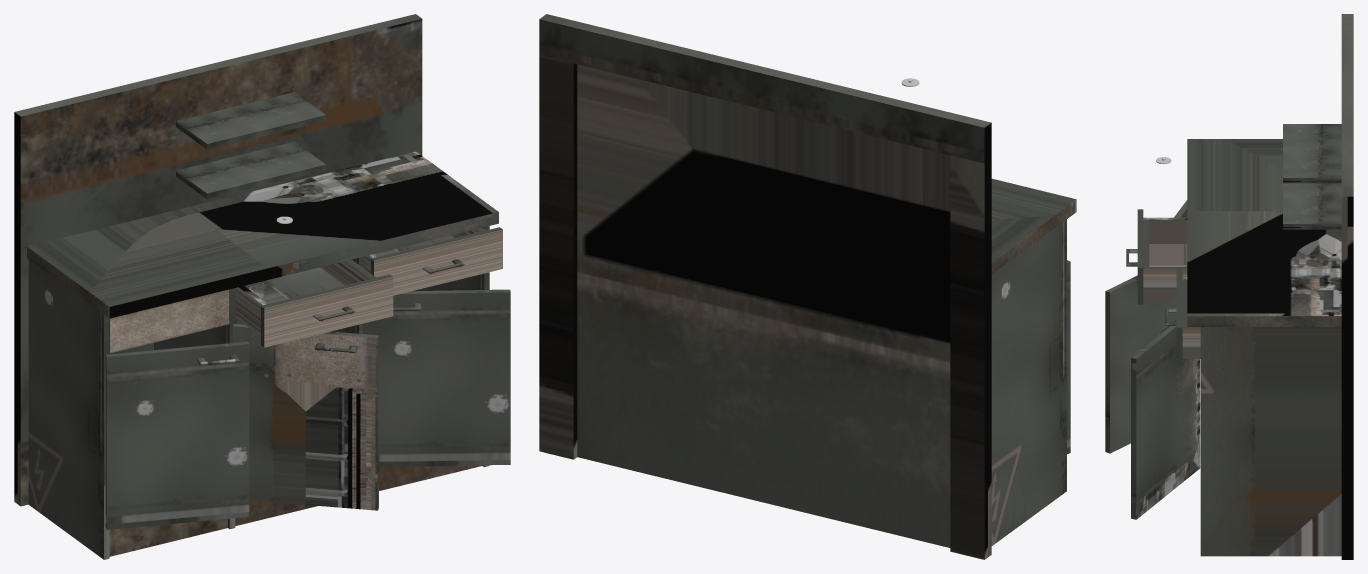
File: table 2.fbx
3 renders of one model, left to right at view 1: azimuth 30°, elevation 25°; view 2: azimuth 150°, elevation 25°; view 3: azimuth 270°, elevation 25°, orthographic. The views are drawn at different scales.
Visible parts, largest first — view 1: SzafkaNarzedziowa, SzafkaNarzedziowa.001, przodL, przodL.002, przodL1, bokL, szuflada1.001, szuflada1, przodZaslepka.002, przodZaslepka.001, przodZaslepka, bokL.001 (+1 smaller); view 2: SzafkaNarzedziowa, bokL, SzafkaNarzedziowa.001, przodL; view 3: bokL.002, SzafkaNarzedziowa.001, przodL.002, SzafkaNarzedziowa, przodL1, szuflada1.001, przodZaslepka.002, przodZaslepka.001, szuflada1.
Part boxes in pixels (left/top/right/bottom): SzafkaNarzedziowa: left=14, top=14, right=482, bottom=556; SzafkaNarzedziowa.001: left=27, top=151, right=498, bottom=318; przodL: left=105, top=341, right=249, bottom=529; przodL.002: left=363, top=289, right=510, bottom=466; przodL1: left=233, top=323, right=378, bottom=510; bokL: left=28, top=259, right=109, bottom=559; szuflada1.001: left=235, top=259, right=393, bottom=347; szuflada1: left=364, top=227, right=502, bottom=295; przodZaslepka.002: left=176, top=92, right=325, bottom=149; przodZaslepka.001: left=176, top=141, right=325, bottom=199; przodZaslepka: left=109, top=289, right=229, bottom=353; bokL.001: left=154, top=288, right=235, bottom=529; SzafkaNarzedziowa: left=539, top=14, right=991, bottom=559; bokL: left=991, top=219, right=1066, bottom=545; SzafkaNarzedziowa.001: left=991, top=178, right=1076, bottom=273; przodL: left=1067, top=260, right=1070, bottom=454; bokL.002: left=1200, top=327, right=1341, bottom=556; SzafkaNarzedziowa.001: left=1187, top=139, right=1341, bottom=326; przodL.002: left=1131, top=320, right=1200, bottom=519; SzafkaNarzedziowa: left=1341, top=14, right=1353, bottom=559; przodL1: left=1105, top=275, right=1176, bottom=453; szuflada1.001: left=1126, top=209, right=1187, bottom=304; przodZaslepka.002: left=1283, top=124, right=1341, bottom=183; przodZaslepka.001: left=1283, top=183, right=1341, bottom=229; szuflada1: left=1165, top=268, right=1200, bottom=364.
Bounding box in the file's own units: 200 × 186 × 115.
